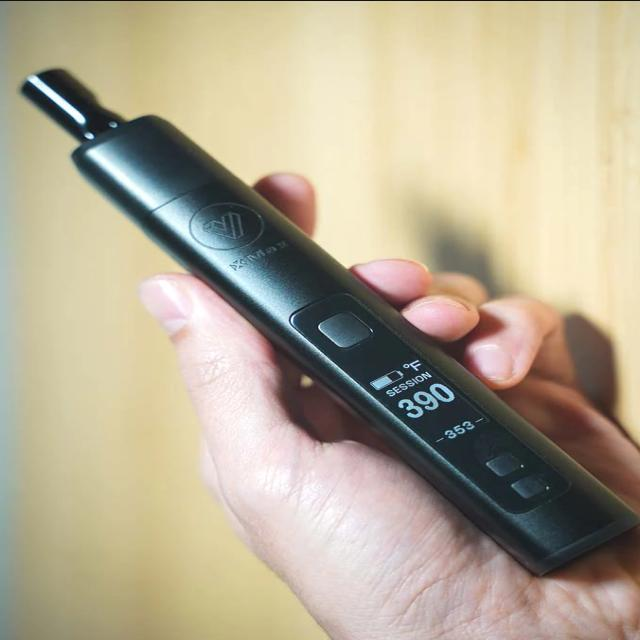Hazard: (19, 67, 640, 582)
